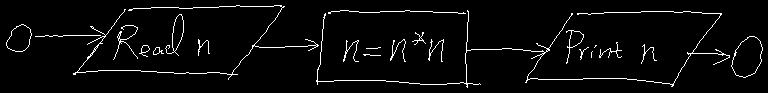arrow: (35, 26, 105, 44), (466, 43, 549, 58), (252, 39, 318, 50), (687, 49, 729, 64)
connection: (731, 36, 762, 77), (6, 24, 31, 51)
data: (73, 5, 284, 79), (525, 11, 721, 86)
process: (316, 10, 480, 87)
text: (113, 14, 209, 59), (566, 30, 656, 63), (343, 32, 443, 61)
